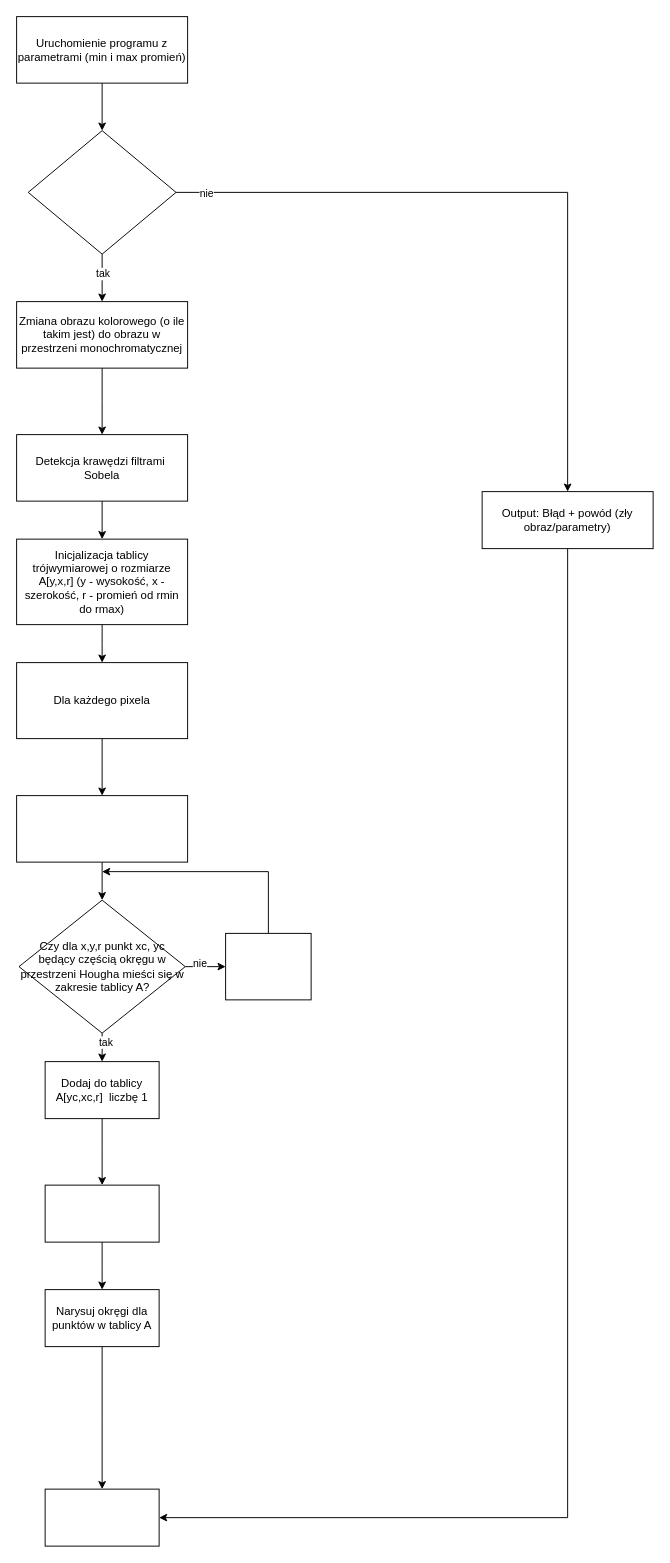
Image size: 670x1563. Some labels were removed from this diagram. Here are the shapes that lost their labels. From the top down, the centre of each, then its label:
At point (101, 192): "Obraz i parametry wczytanie poprawnie".
At point (102, 828): "Dla każdego r wyznacz zbiór punktów reprezentujący okrąg w punkcie (x,y)".
At point (268, 966): "Weź kolejny punkt xc, yc".
At point (101, 1213): "Wyznacz maksima tablicy A".
At point (101, 1517): "Koniec programu".
